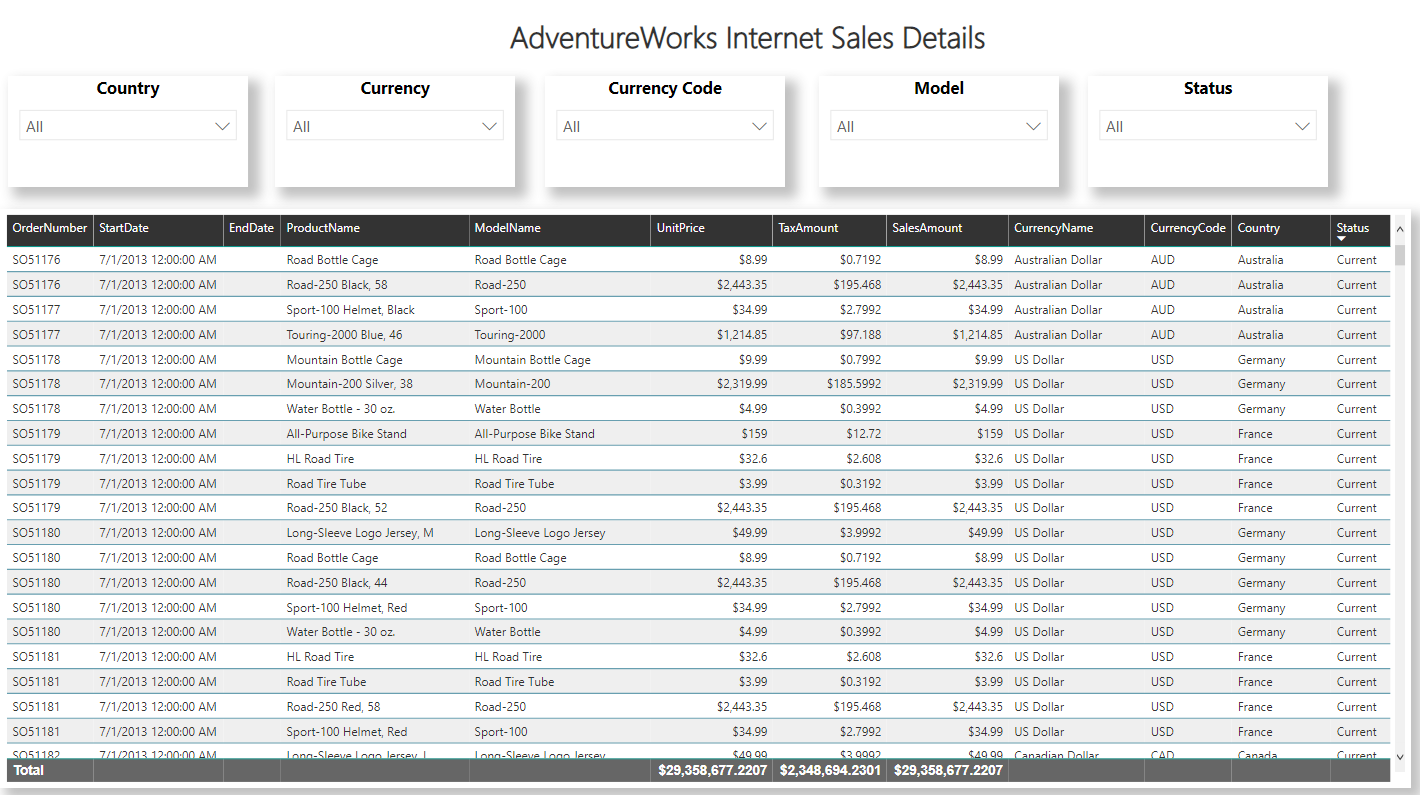

This screenshot's page, from the dashboard's own definition file:
{"tool":"powerbi","page":{"name":"InternetSalesTable","canvas":[1280,720],"ordinal":1},"visuals":[{"type":"tableEx","fields":{"Values":["FactInternetSales.SalesOrderNumber","DimProduct.StartDate","DimProduct.EndDate","DimProduct.EnglishProductName","DimProduct.ModelName","Sum(FactInternetSales.UnitPrice)","Sum(FactInternetSales.TaxAmt)","Sum(FactInternetSales.SalesAmount)","DimCurrency.CurrencyName","DimCurrency.CurrencyAlternateKey","DimSalesTerritory.SalesTerritoryCountry","DimProduct.Status"]},"box":[8.9,189.8,1251.1,513.4],"z":0},{"type":"textbox","box":[427.4,13.3,488.6,48.8],"z":1000},{"type":"slicer","title":"Country","fields":{"Values":["DimSalesTerritory.SalesTerritoryCountry"]},"box":[16,71.8,212.8,97.5],"z":2000},{"type":"slicer","title":"Currency","fields":{"Values":["DimCurrency.CurrencyName"]},"box":[252.7,71.8,212.8,97.5],"z":3000},{"type":"slicer","title":"Currency Code","fields":{"Values":["DimCurrency.CurrencyAlternateKey"]},"box":[492.1,71.8,212.8,97.5],"z":4000},{"type":"slicer","title":"Model","fields":{"Values":["DimProduct.ModelName"]},"box":[735.1,71.8,212.8,97.5],"z":5000},{"type":"slicer","title":"Status","fields":{"Values":["DimProduct.Status"]},"box":[973.6,71.8,212.8,97.5],"z":6000}]}

Visuals, with their boxes in screenshot pixels (x1, y1, x2, y2), scaled from the page's 1280x720 canvas onto the 1420x795 screenshot:
tableEx - FactInternetSales.SalesOrderNumber x DimProduct.StartDate: left=10, top=210, right=1398, bottom=776
textbox: left=474, top=15, right=1016, bottom=69
"Country" slicer: left=18, top=79, right=254, bottom=187
"Currency" slicer: left=280, top=79, right=516, bottom=187
"Currency Code" slicer: left=546, top=79, right=782, bottom=187
"Model" slicer: left=816, top=79, right=1052, bottom=187
"Status" slicer: left=1080, top=79, right=1316, bottom=187
